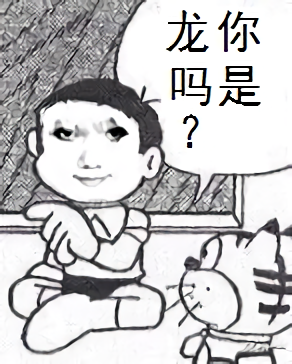dragon: (53, 120, 130, 185)
